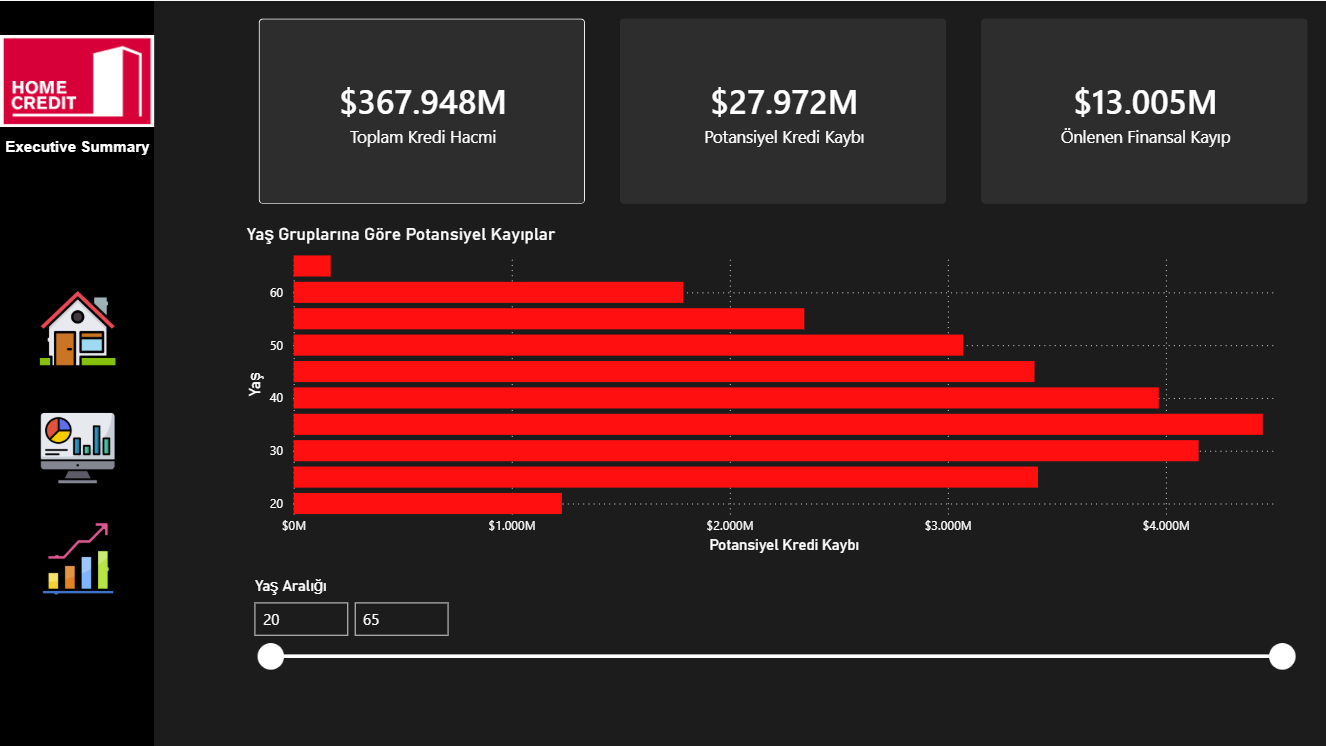

This screenshot's page, from the dashboard's own definition file:
{"tool":"powerbi","page":{"name":"Executive Summary","canvas":[1280,720],"ordinal":0},"visuals":[{"type":"cardVisual","fields":{"Data":["powerbi_kredi_risk_verisi.Toplam Kredi Hacmi"]},"box":[232.3,0,349.1,213.5],"z":0},{"type":"cardVisual","fields":{"Data":["powerbi_kredi_risk_verisi.Gerceklesen Batik"]},"box":[581.4,0,349.1,213.5],"z":1000},{"type":"cardVisual","fields":{"Data":["powerbi_kredi_risk_verisi.Modelin Kurtardigi"]},"box":[930.6,0,349.1,213.5],"z":2000},{"type":"clusteredBarChart","title":"Yaş Gruplarına Göre Potansiyel Kayıplar","fields":{"Y":["powerbi_kredi_risk_verisi.Gerceklesen Batik"],"Category":["powerbi_kredi_risk_verisi.yas (bins)"]},"box":[232.3,213.5,1025.8,324.6],"z":3000},{"type":"slicer","fields":{"Values":["powerbi_kredi_risk_verisi.yas (bins)"]},"box":[232.3,549.7,1025.8,170.2],"z":4000},{"type":"shape","box":[0,0,148.6,719.9],"z":5000},{"type":"image","box":[36.1,275.6,77.9,80.8],"z":6000},{"type":"image","box":[36.1,360.7,77.9,141.4],"z":7000},{"type":"textbox","box":[0,127,164.5,148.6],"z":8000},{"type":"image","box":[0,0,148.6,154.4],"z":9000},{"type":"image","box":[36.1,502.1,77.9,72.1],"z":10000}]}

Visuals, with their boxes in screenshot pixels (x1, y1, x2, y2), scaled from the page's 1280x720 canvas onto the 1326x746 screenshot:
cardVisual - powerbi_kredi_risk_verisi.Toplam Kredi Hacmi: region(241, 0, 602, 221)
cardVisual - powerbi_kredi_risk_verisi.Gerceklesen Batik: region(602, 0, 964, 221)
cardVisual - powerbi_kredi_risk_verisi.Modelin Kurtardigi: region(964, 0, 1325, 221)
"Yaş Gruplarına Göre Potansiyel Kayıplar" clusteredBarChart: region(241, 221, 1303, 558)
slicer - powerbi_kredi_risk_verisi.yas (bins): region(241, 570, 1303, 745)
shape: region(0, 0, 154, 745)
image: region(37, 286, 118, 369)
image: region(37, 374, 118, 520)
textbox: region(0, 132, 170, 286)
image: region(0, 0, 154, 160)
image: region(37, 520, 118, 595)
